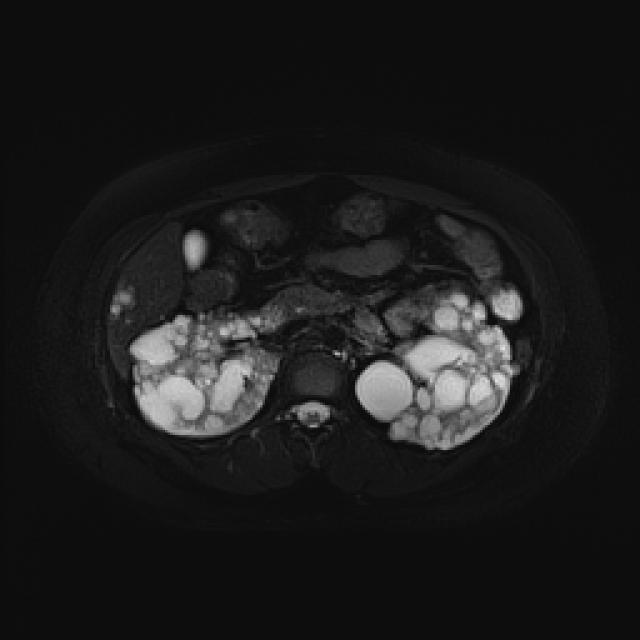sag: (128, 311, 280, 438)
sol: (355, 289, 511, 449)
